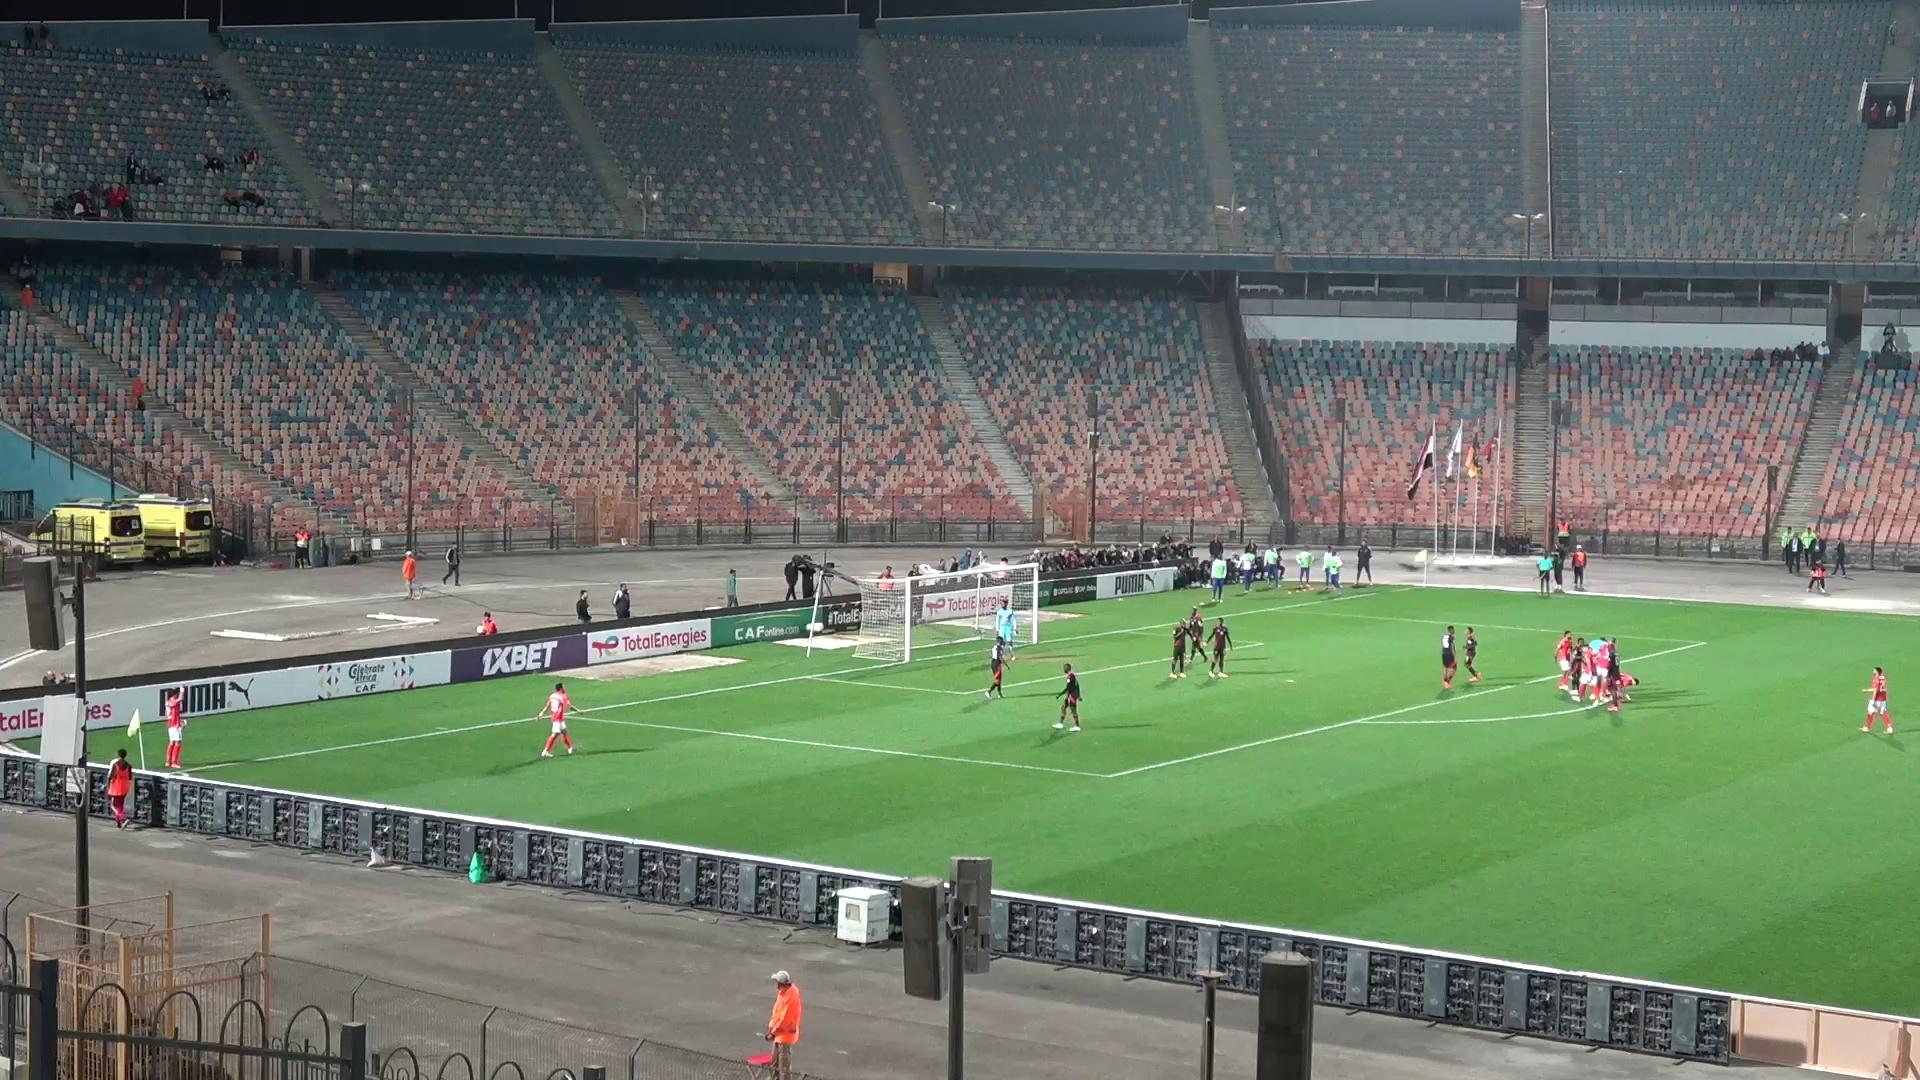GK2: (990, 599, 1021, 674)
Refree: (1538, 551, 1563, 593)
Team1: (535, 682, 576, 756), (1859, 667, 1895, 736), (161, 688, 187, 770), (1578, 640, 1604, 704), (1555, 632, 1573, 698), (1615, 673, 1640, 705)
Team2: (1054, 663, 1083, 732), (982, 640, 1014, 698), (1203, 618, 1233, 676), (1607, 640, 1630, 713), (1182, 607, 1204, 673), (1168, 618, 1191, 678), (1458, 626, 1482, 680), (1568, 638, 1585, 704), (1440, 626, 1457, 690)
